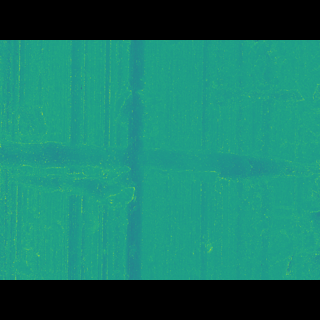Loch: (0, 143, 320, 193), (190, 91, 320, 123), (102, 98, 168, 137)
